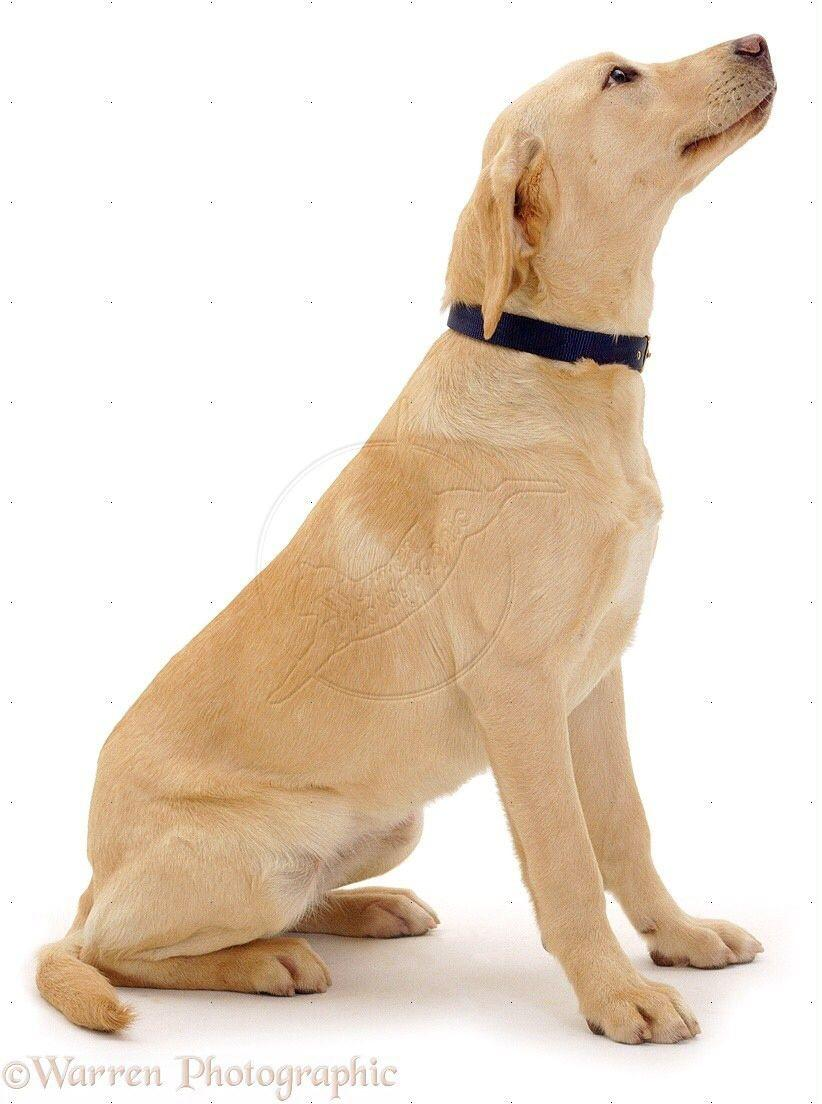adult_dog: (30, 29, 784, 1047)
